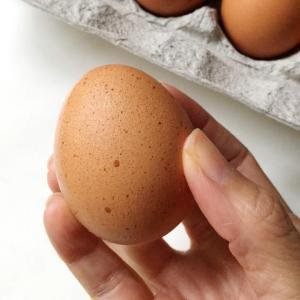Egg: (41, 43, 210, 253), (219, 0, 300, 61)
